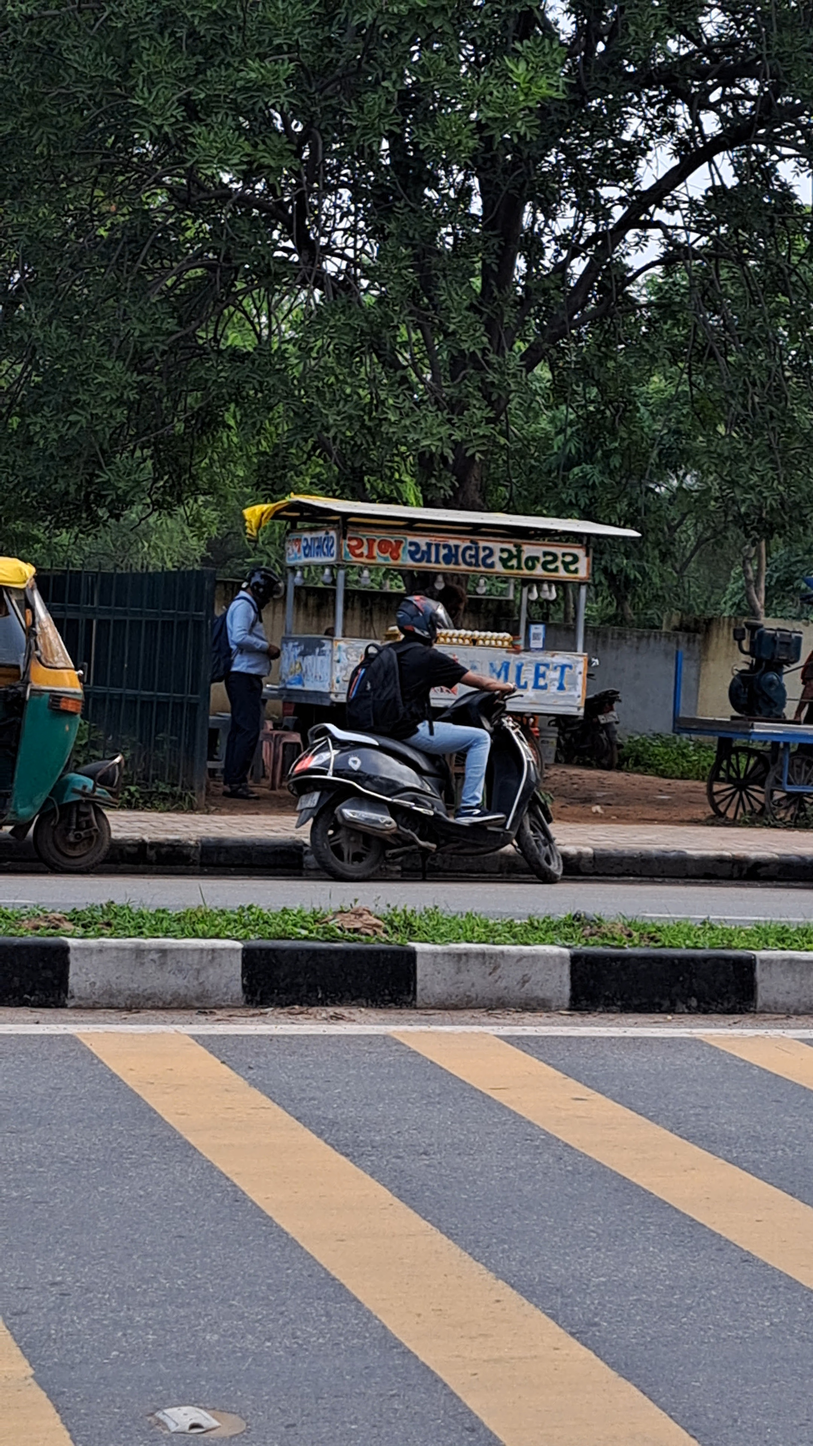BikeWithRider: (280, 588, 575, 895)
Helmet: (387, 589, 458, 648)
